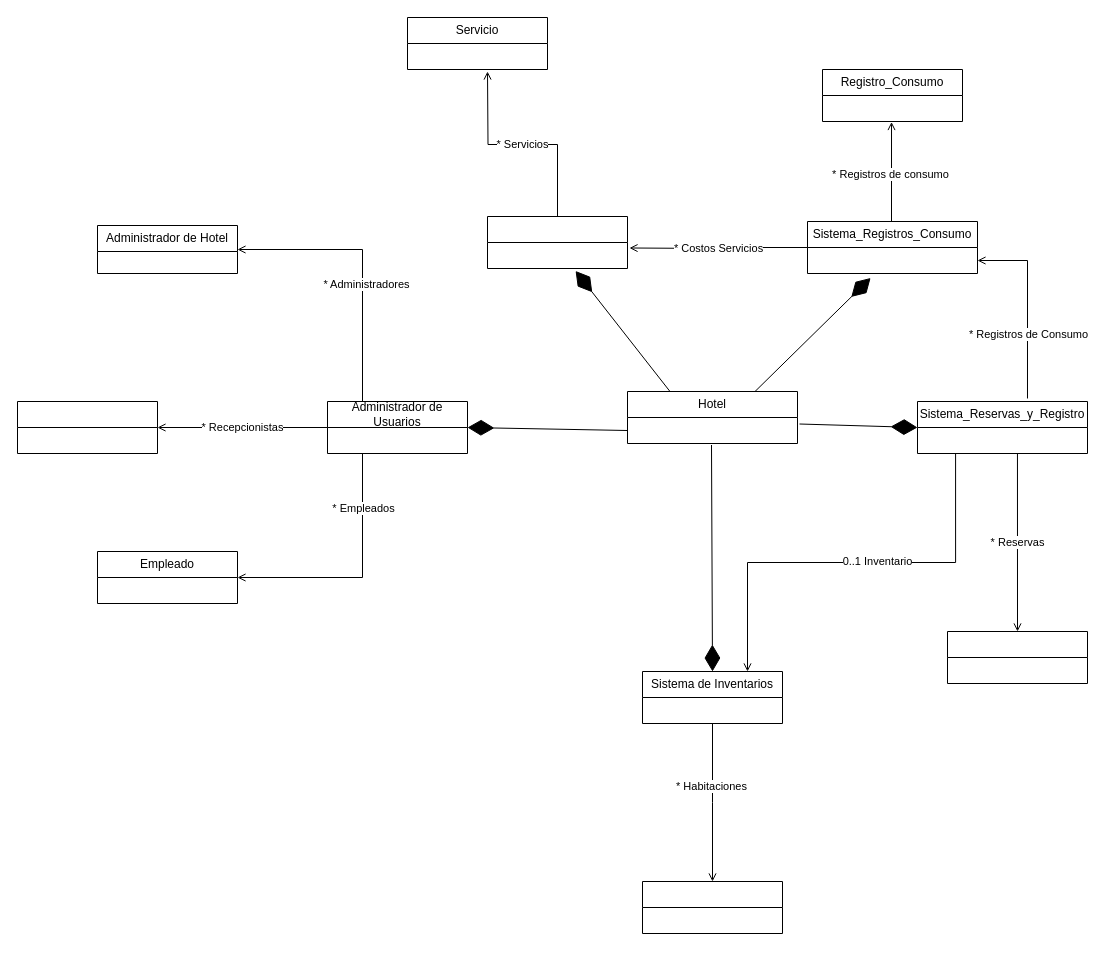
Some shapes in this 1106 by 954 pixel diagram are drawn without their labels. Here are the shapes that lost their labels. From the top down, the centre of each, then its label:
(557,242): Sistema de Servicios
(87,427): Recepcionista
(1017,657): Reserva
(712,907): Habitación
